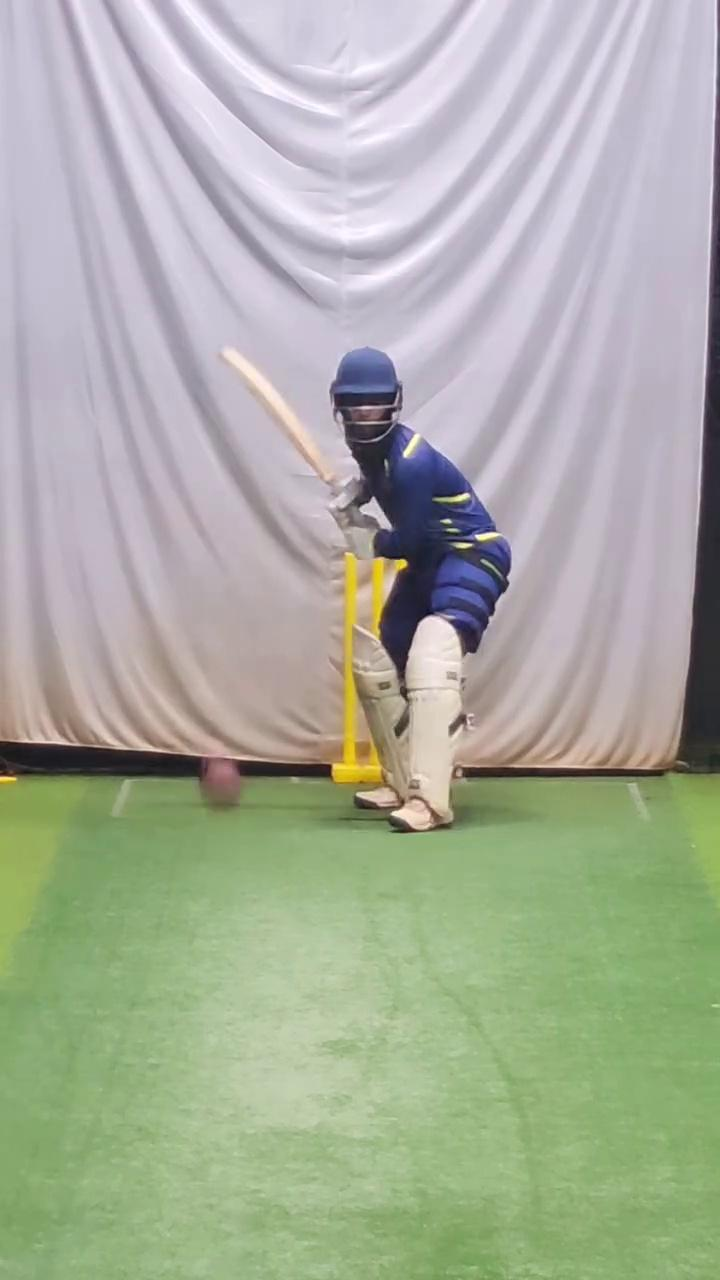bat: (211, 339, 342, 488)
